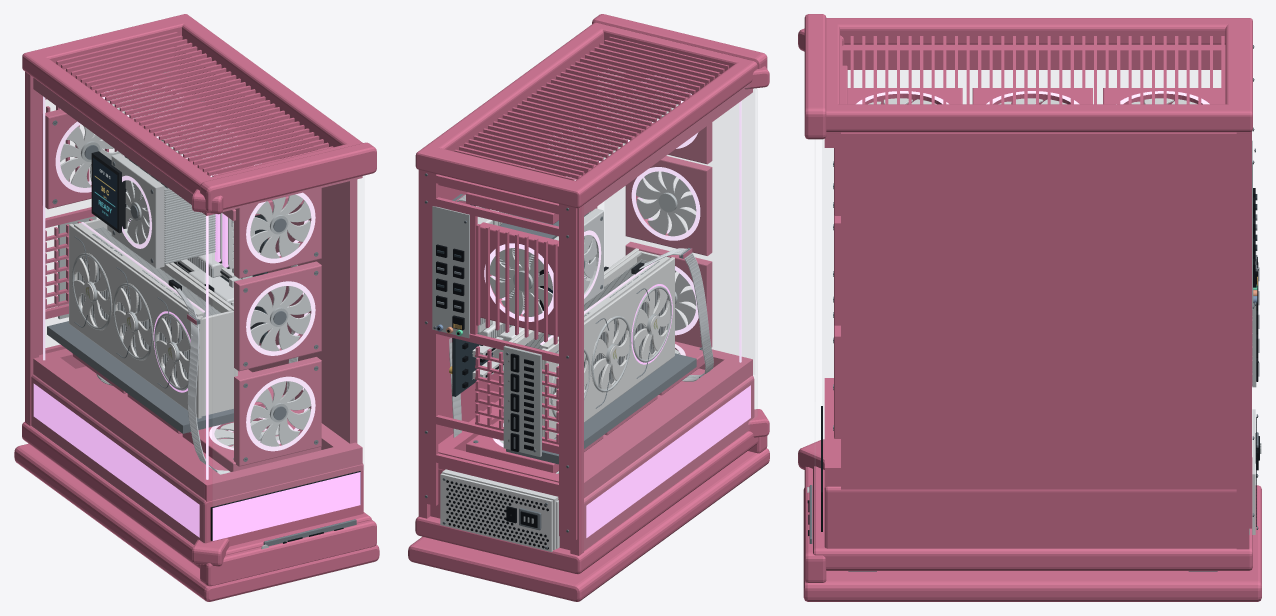
Rendered from showcase92-rose.glb.
The picture shows the model from 3 angles, left to right: view 1: azimuth 30°, elevation 25°; view 2: azimuth 150°, elevation 25°; view 3: azimuth 270°, elevation 25°; orthographic projection. The views are drawn at different scales.
Visible parts, largest first — view 1: s83-surface-3b9a8ef2-4f93-4a84-925c-c26bae3a871f, s83-surface-b353cf04-ca49-4072-8725-7acc655e430f, s83-surface-f70feadb-1267-4132-833c-3e62ed9b24a9, s83-fan-13, s83-fan-14, s83-fan-15, s83-fan-2, s83-fan-1, s83-fan-3, s83-fan-12, s83-surface-36a2d85f-123c-4cc4-81b5-34c06aefd471, s83-fan-5; view 2: s83-surface-3b9a8ef2-4f93-4a84-925c-c26bae3a871f, s83-surface-c12c4b2b-81ed-432b-8dd3-dee0f091fb73, s83-surface-b353cf04-ca49-4072-8725-7acc655e430f, s83-surface-f70feadb-1267-4132-833c-3e62ed9b24a9, s83-fan-14, s83-fan-12, s83-fan-2, s83-fan-3, s83-fan-13, s83-fan-5; view 3: s83-surface-3b9a8ef2-4f93-4a84-925c-c26bae3a871f, s83-surface-f70feadb-1267-4132-833c-3e62ed9b24a9.
Boxes of the visible parts, x1,y1,x2,y2 form: s83-surface-3b9a8ef2-4f93-4a84-925c-c26bae3a871f: (14,14,379,601); s83-surface-b353cf04-ca49-4072-8725-7acc655e430f: (33,213,360,540); s83-surface-f70feadb-1267-4132-833c-3e62ed9b24a9: (43,83,315,479); s83-fan-13: (250,381,311,446); s83-fan-14: (250,286,311,351); s83-fan-15: (250,194,311,258); s83-fan-2: (115,283,153,360); s83-fan-1: (73,253,112,330); s83-fan-3: (156,313,190,390); s83-fan-12: (60,125,123,187); s83-surface-36a2d85f-123c-4cc4-81b5-34c06aefd471: (93,157,117,228); s83-fan-5: (125,180,151,244); s83-surface-3b9a8ef2-4f93-4a84-925c-c26bae3a871f: (408,14,769,601); s83-surface-c12c4b2b-81ed-432b-8dd3-dee0f091fb73: (604,88,755,375); s83-surface-b353cf04-ca49-4072-8725-7acc655e430f: (586,284,750,537); s83-surface-f70feadb-1267-4132-833c-3e62ed9b24a9: (484,75,741,447); s83-fan-14: (636,171,696,236); s83-fan-12: (490,248,552,316); s83-fan-2: (591,317,629,392); s83-fan-3: (632,287,670,362); s83-fan-13: (675,270,696,330); s83-fan-5: (584,235,596,292); s83-surface-3b9a8ef2-4f93-4a84-925c-c26bae3a871f: (798,14,1261,601); s83-surface-f70feadb-1267-4132-833c-3e62ed9b24a9: (856,91,1209,104).
Size of the model in its own units: 1.37 by 3 by 2.56.
Materials: 23 (22 with a texture image).
